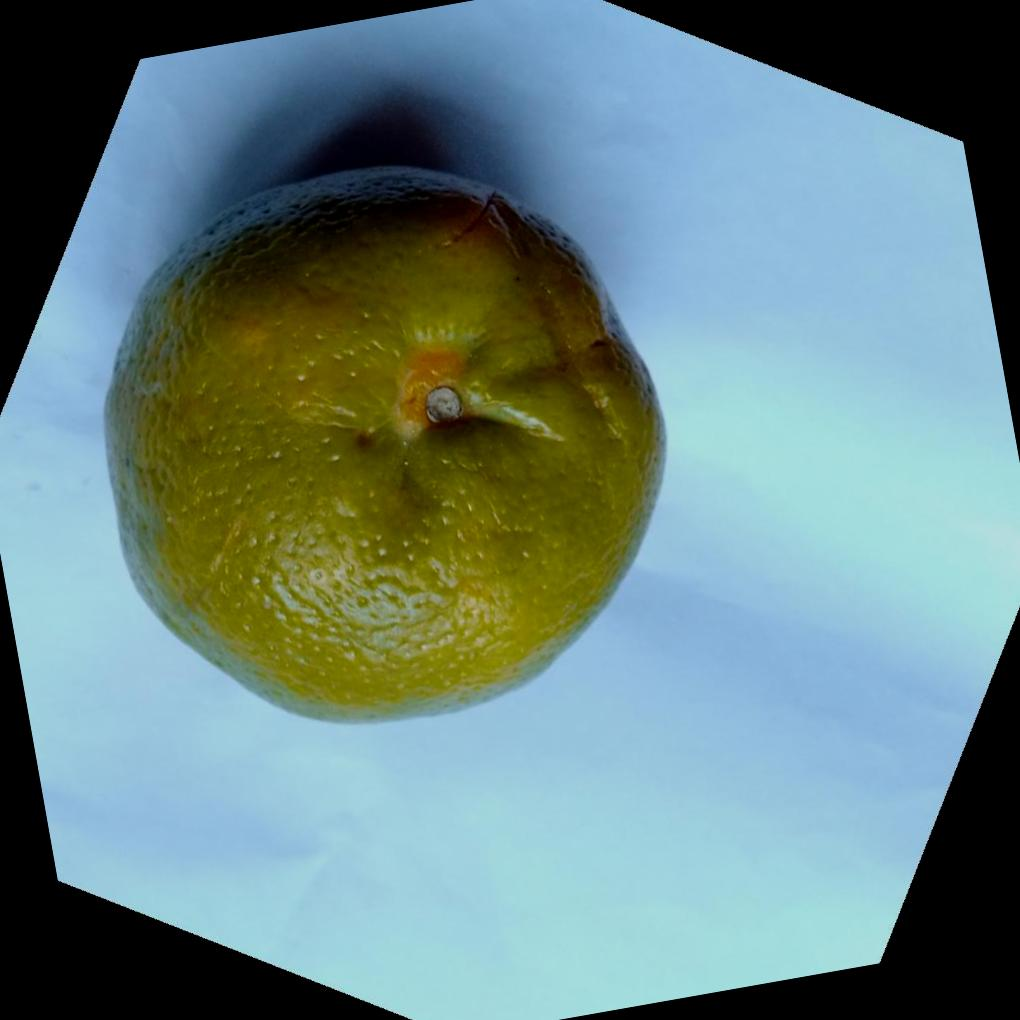FreshGuava: (103, 162, 671, 724)
